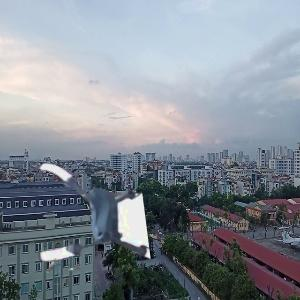drone: (28, 153, 145, 270)
